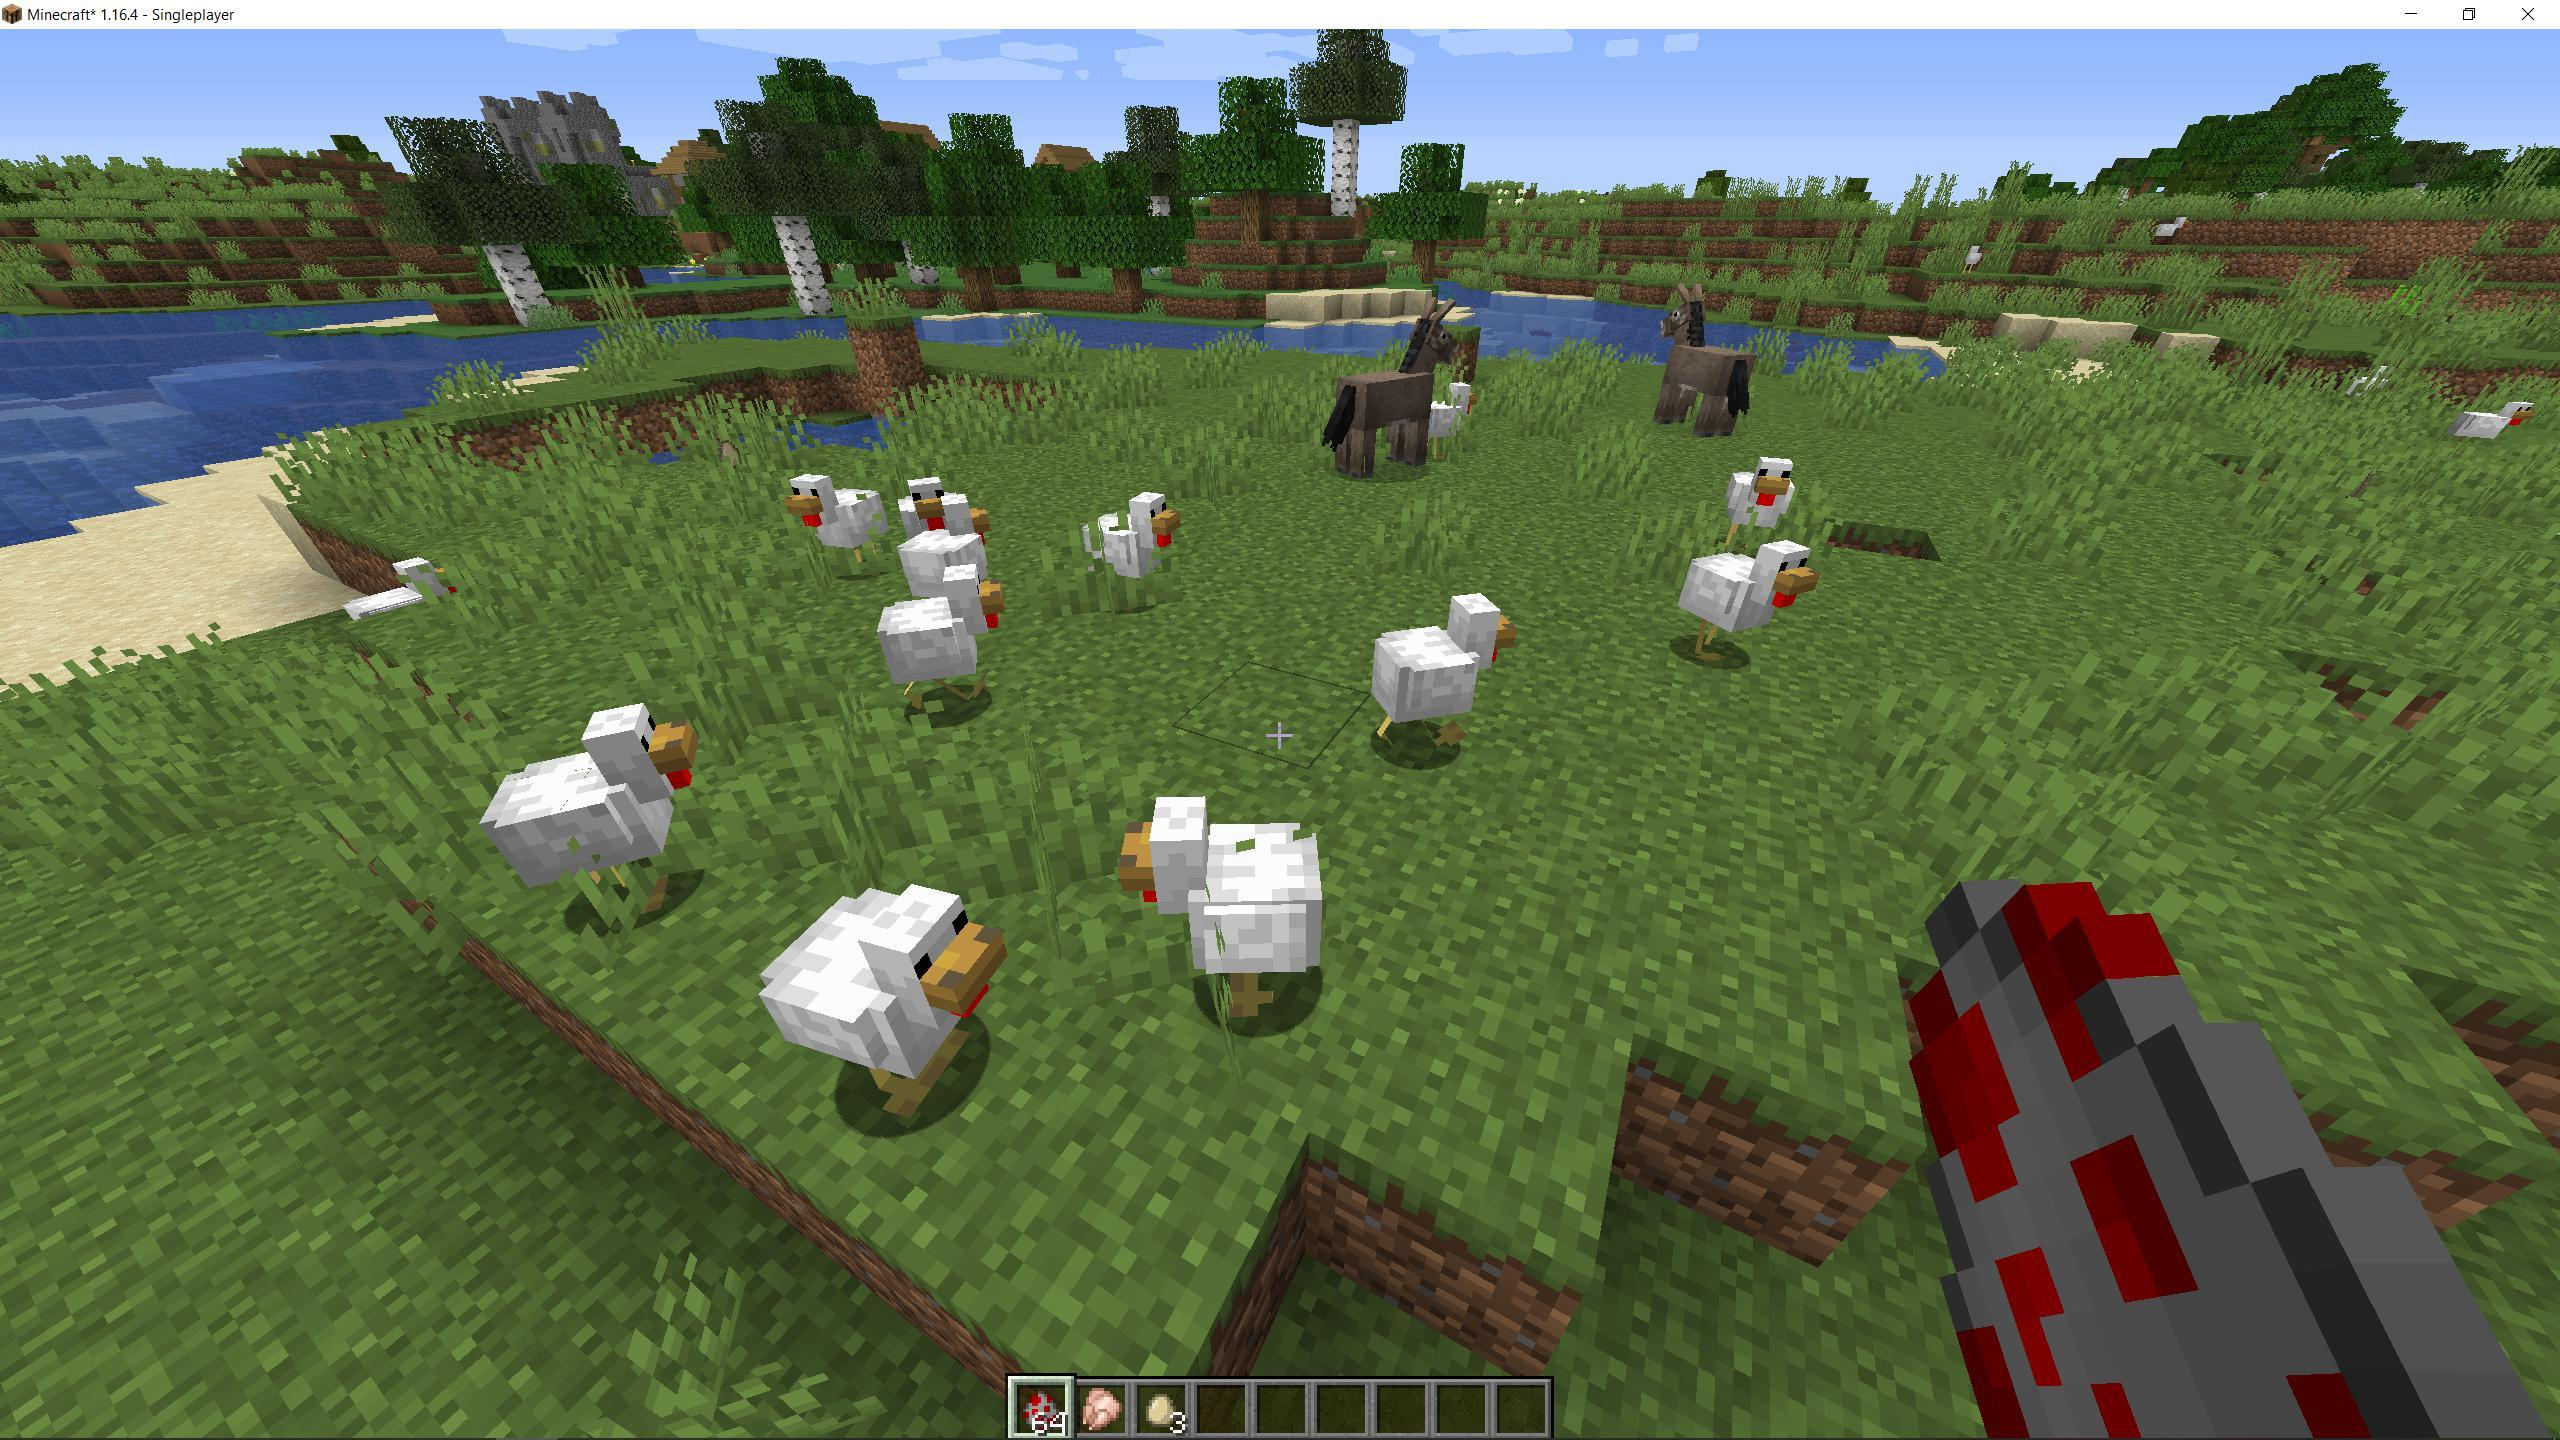chicken: (758, 876, 1013, 1134), (478, 689, 714, 941), (1122, 795, 1329, 1032), (1366, 585, 1521, 758), (872, 563, 1009, 719), (1677, 535, 1818, 670), (1081, 491, 1189, 612), (779, 473, 888, 580)
